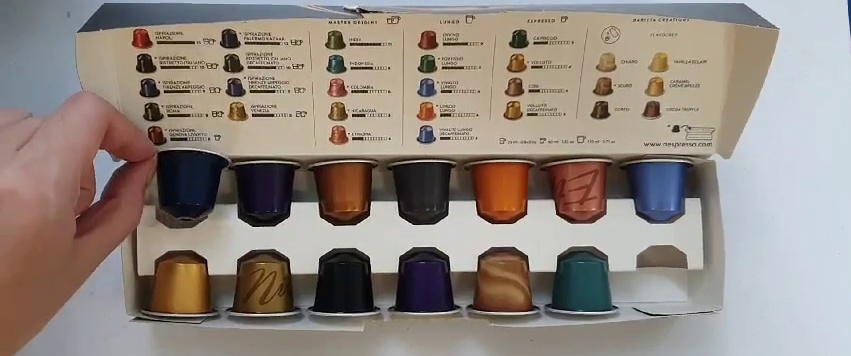capsule_1: (154, 148, 229, 216)
